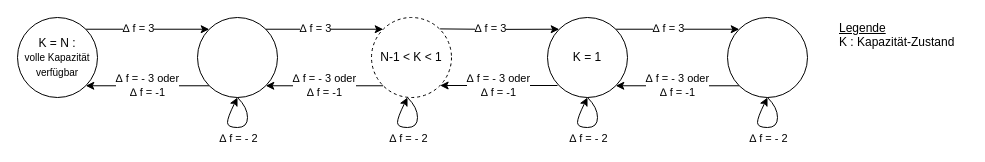
Some shapes in this 985 by 162 pixel diagram are drawn without their labels. Each missing label, with the box of its shape:
K = 0 : keine Kapazität verfügbar: (726, 16, 808, 98)
K = N-1: (196, 16, 278, 98)
